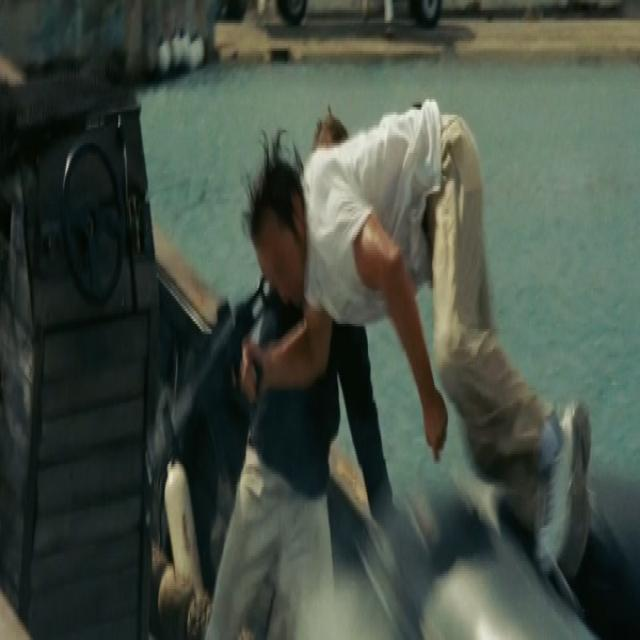rifle: (148, 277, 276, 493)
